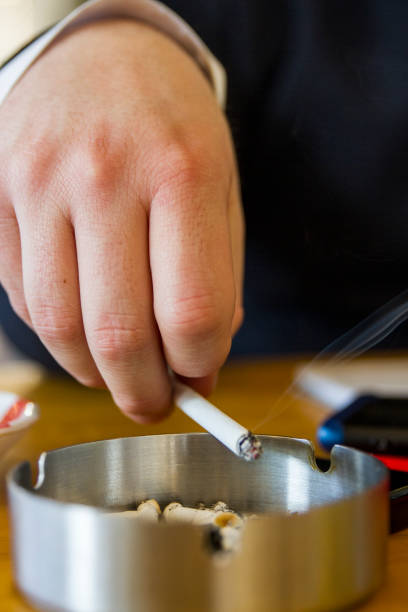cigarette: (171, 377, 265, 463), (161, 494, 248, 536), (106, 498, 161, 520)
